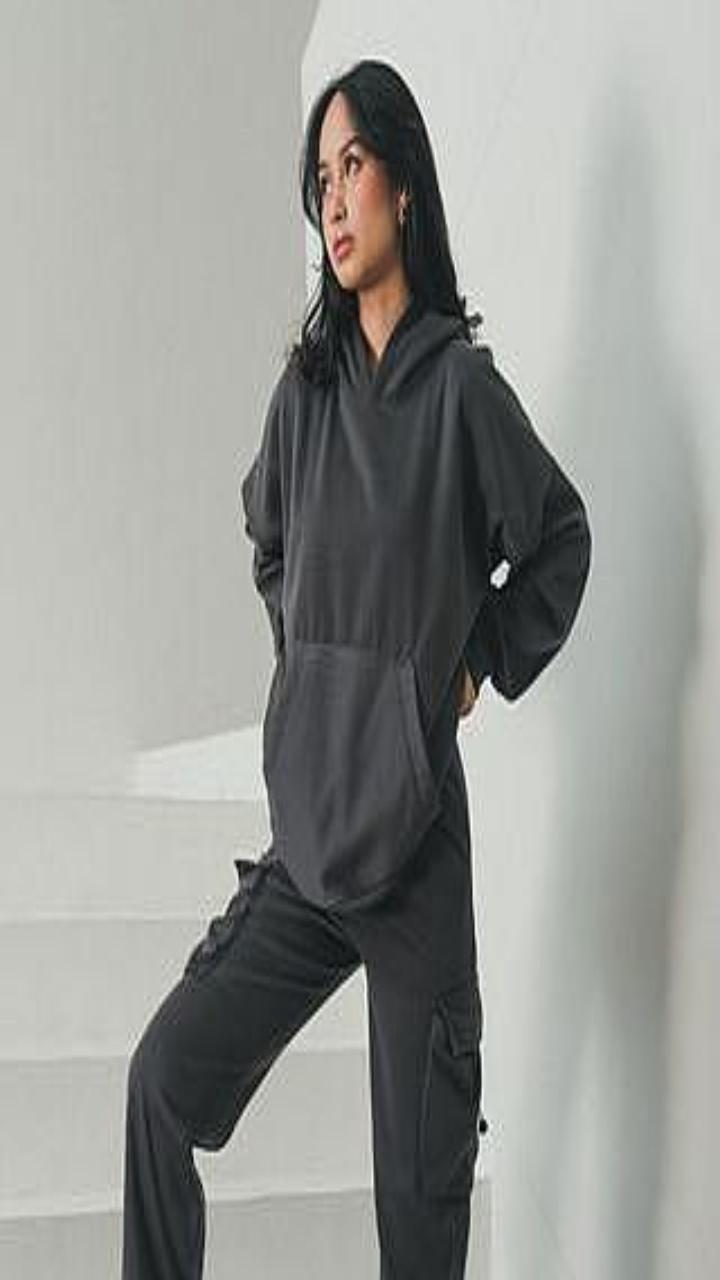Hoodie: (241, 299, 590, 906)
